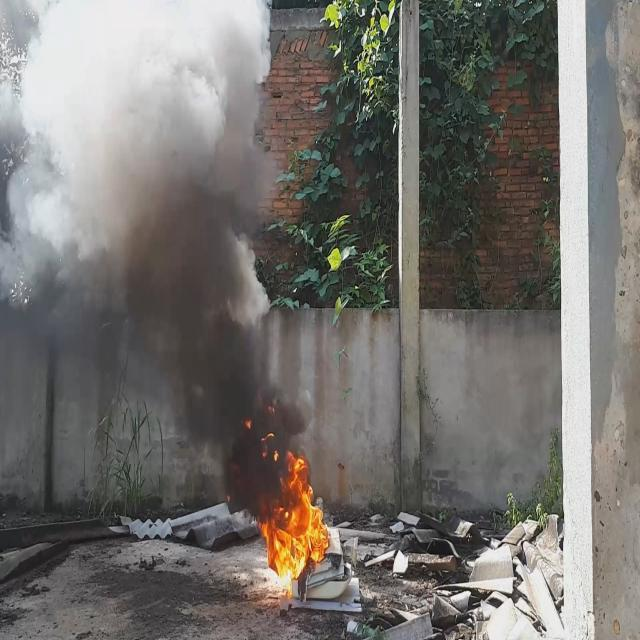Fire: (260, 441, 333, 588)
Smoke: (0, 0, 300, 518)
